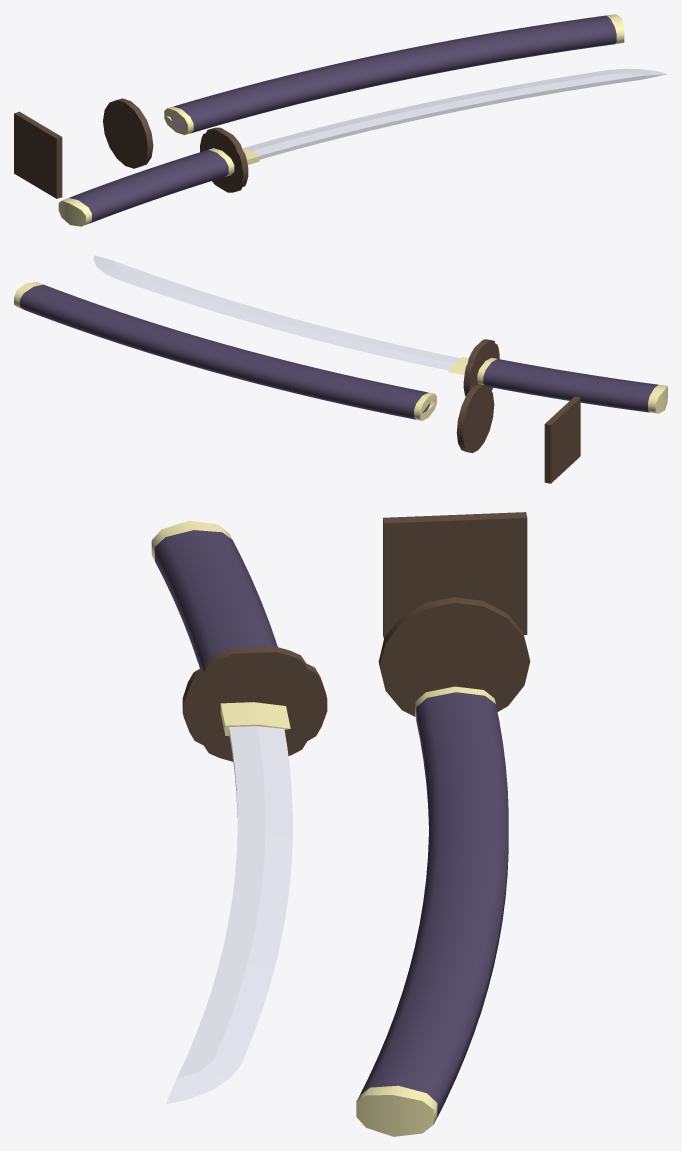
The model's file is katana.fbx.
The picture shows the model from 3 angles, top to bottom: view 1: azimuth 30°, elevation 25°; view 2: azimuth 150°, elevation 25°; view 3: azimuth 270°, elevation 25°; orthographic projection. The views are drawn at different scales.
Parts seen in each view (by area): view 1: Sheath, Katana, GuardSquare, GuardRound, GuardLobed; view 2: Sheath, Katana, GuardSquare, GuardRound, GuardLobed; view 3: Sheath, Katana, GuardSquare, GuardRound, GuardLobed.
Part boxes in pixels (left/top/right/bottom): Sheath: left=164, top=14, right=624, bottom=134; Katana: left=58, top=68, right=667, bottom=226; GuardSquare: left=14, top=111, right=62, bottom=198; GuardRound: left=103, top=98, right=153, bottom=168; GuardLobed: left=200, top=127, right=248, bottom=192; Sheath: left=14, top=282, right=436, bottom=420; Katana: left=93, top=255, right=667, bottom=413; GuardSquare: left=544, top=396, right=580, bottom=483; GuardRound: left=456, top=384, right=494, bottom=453; GuardLobed: left=463, top=339, right=499, bottom=396; Sheath: left=356, top=686, right=508, bottom=1136; Katana: left=151, top=520, right=292, bottom=1104; GuardSquare: left=383, top=512, right=527, bottom=638; GuardRound: left=378, top=597, right=530, bottom=716; GuardLobed: left=182, top=646, right=327, bottom=761.
Size of the model in its own units: 1351 by 135 by 375.
